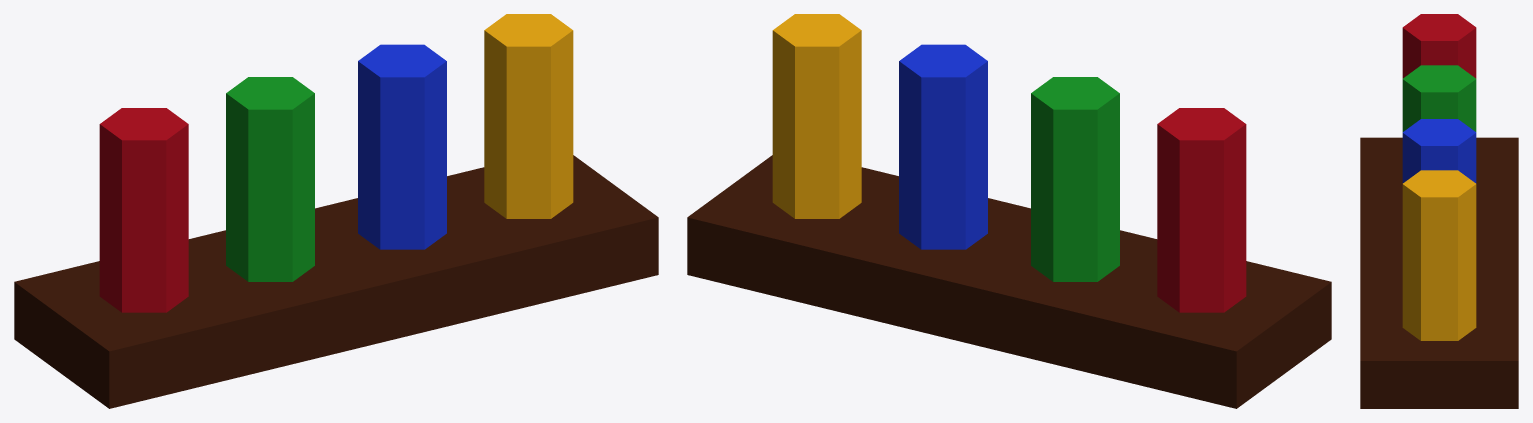
File: vial_rack.obj
The picture shows the model from 3 angles, left to right: view 1: azimuth 30°, elevation 25°; view 2: azimuth 150°, elevation 25°; view 3: azimuth 270°, elevation 25°; orthographic projection. The views are drawn at different scales.
Parts seen in each view (by area): view 1: vial_rack; view 2: vial_rack; view 3: vial_rack.
Part boxes in pixels (bbox=[...]): vial_rack: bbox=[14, 14, 658, 408]; vial_rack: bbox=[687, 14, 1331, 408]; vial_rack: bbox=[1360, 14, 1518, 408].
Bounding box in the file's own units: 1 × 0.4 × 0.3.
